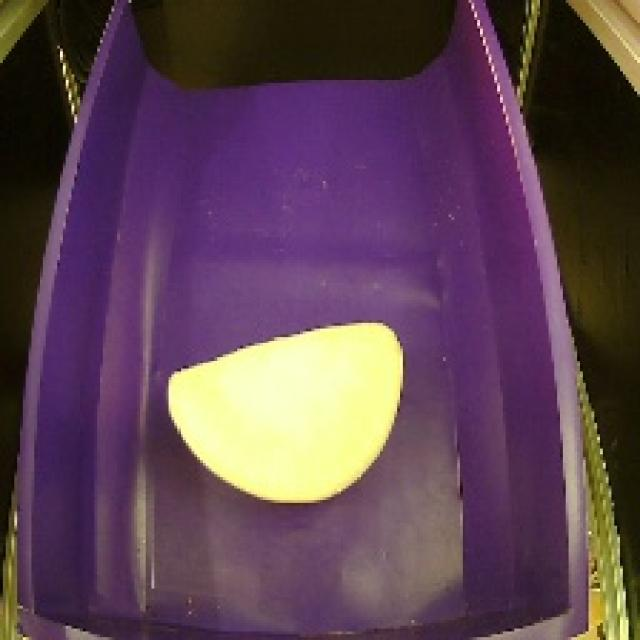white_radish: (154, 312, 424, 514)
